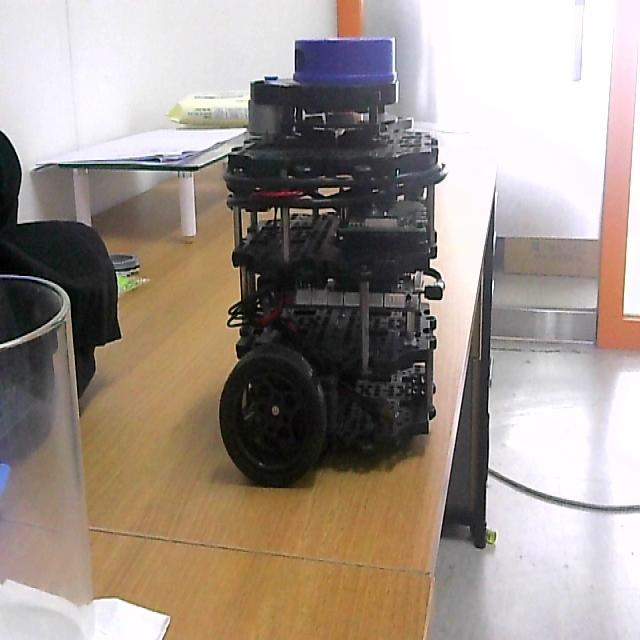turtle: (218, 36, 450, 486)
